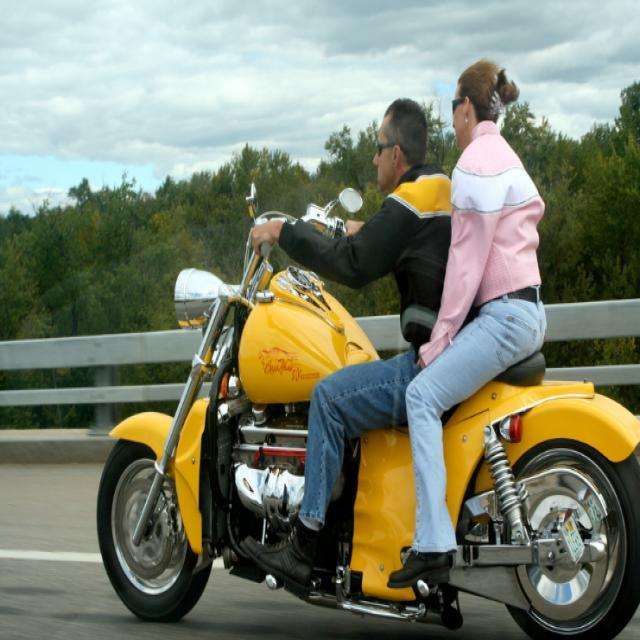No helmet: (354, 99, 441, 207)
